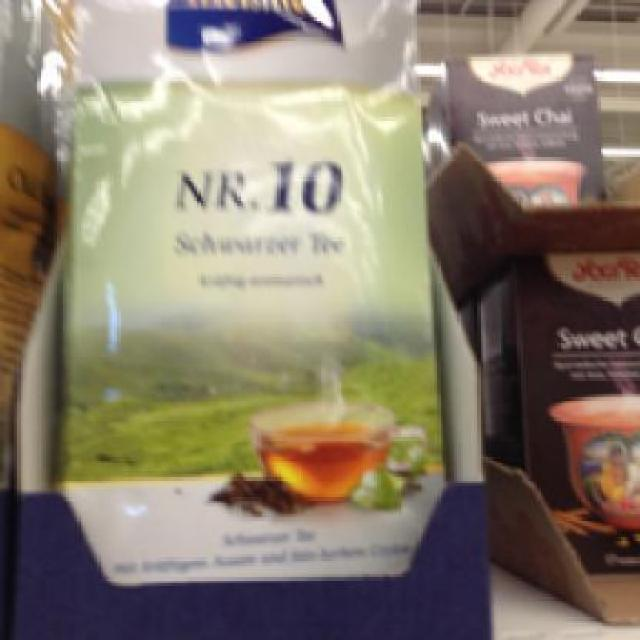Tea: (63, 0, 444, 575), (474, 252, 637, 574), (446, 46, 606, 206)
